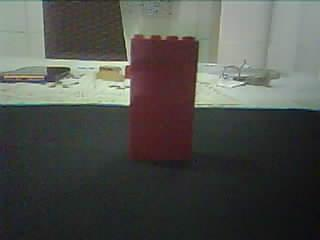lego: (126, 33, 200, 162), (95, 65, 123, 82)
